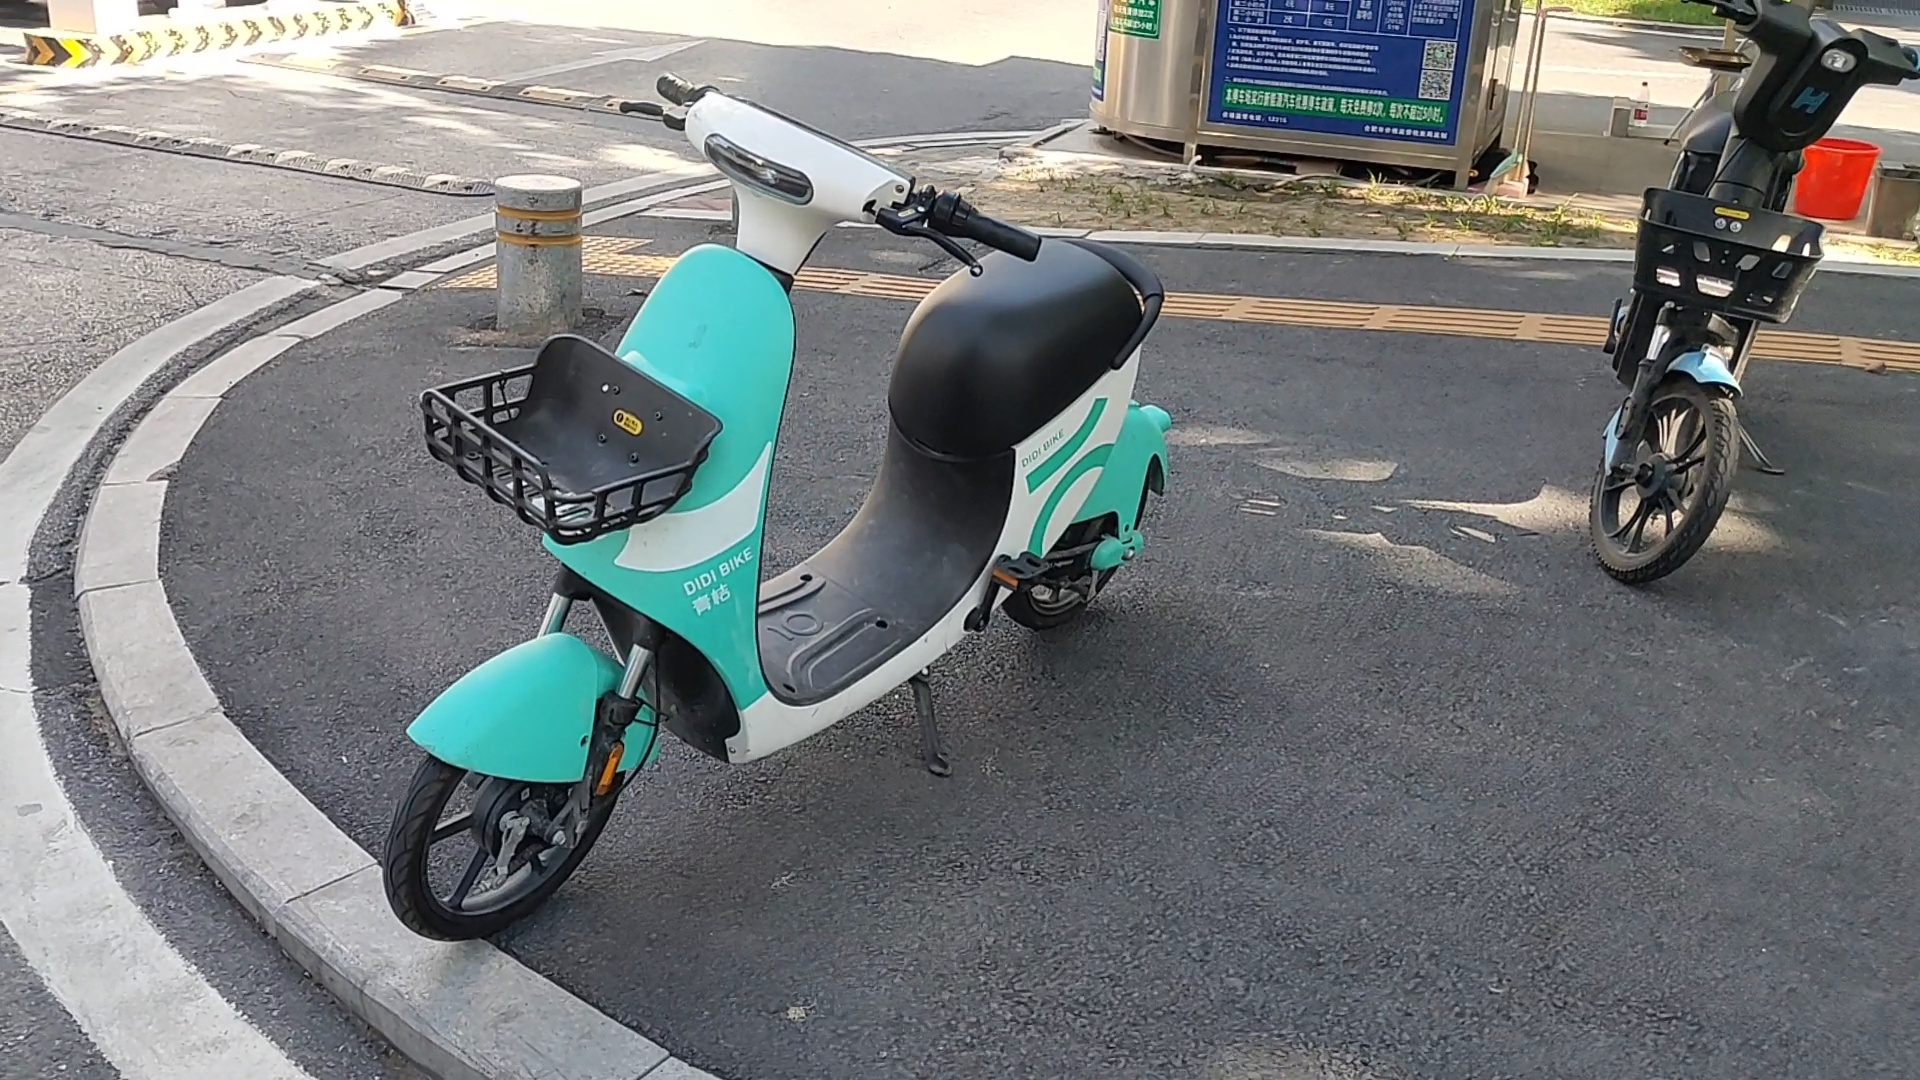non-vehicle: (396, 79, 1176, 972), (1592, 0, 1920, 585)
